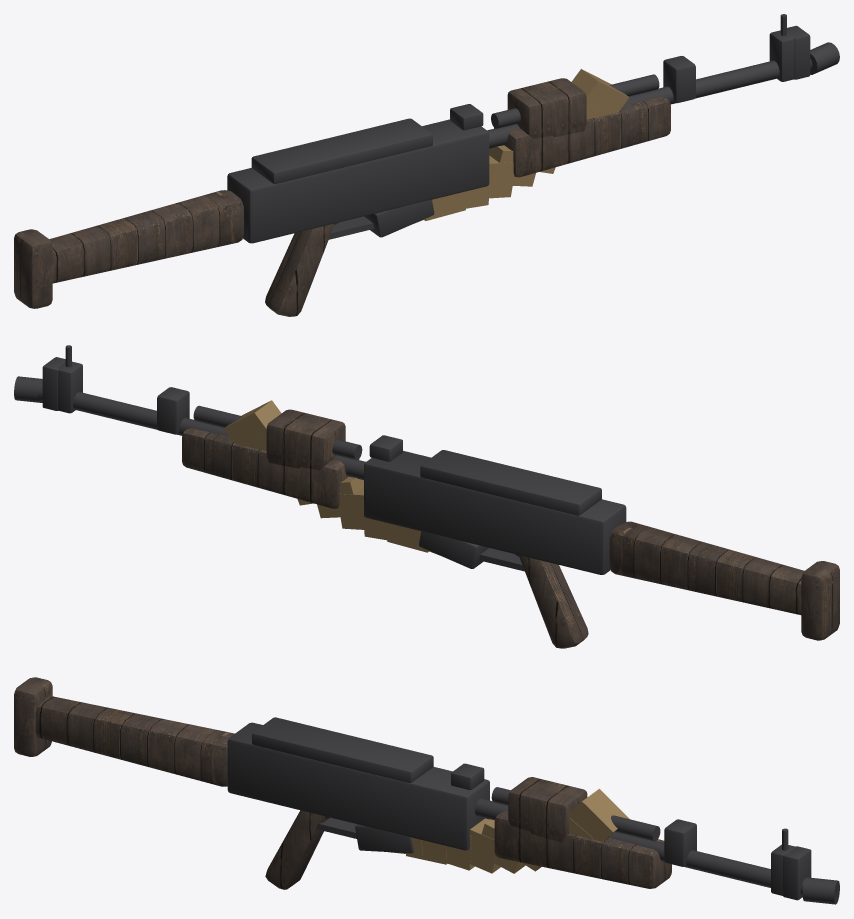
The picture shows the model from 3 angles, top to bottom: view 1: azimuth 30°, elevation 25°; view 2: azimuth 150°, elevation 25°; view 3: azimuth 330°, elevation 25°; orthographic projection.
Visible parts, largest first — view 1: ak; view 2: ak; view 3: ak.
Boxes of the visible parts, <box> form: ak: <box>14,14,839,316</box>; ak: <box>14,345,839,648</box>; ak: <box>14,677,839,904</box>.
Bounding box in the file's own units: 1.02 × 0.2103 × 0.052.
4 materials, 1 textured.
